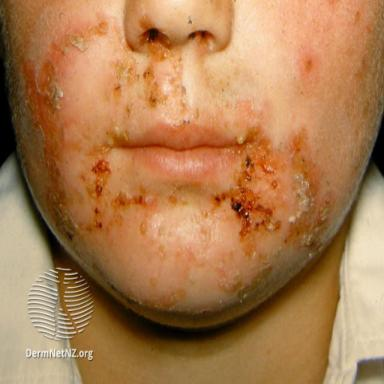Impetigo: (20, 13, 336, 314)
